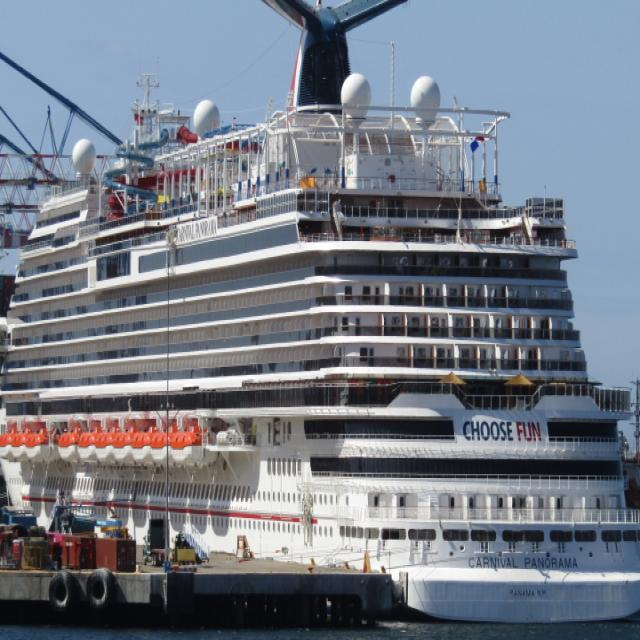cruises: (1, 1, 640, 634)
